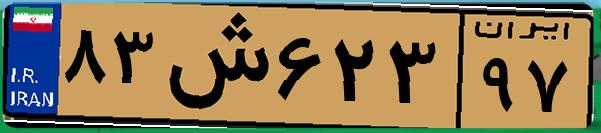2: (330, 28, 385, 110)
3: (385, 28, 445, 110), (110, 28, 158, 98)
6: (270, 28, 330, 110)
7: (525, 38, 570, 115)
8: (57, 26, 110, 100)
9: (475, 38, 525, 113)
ش: (158, 12, 270, 120)
